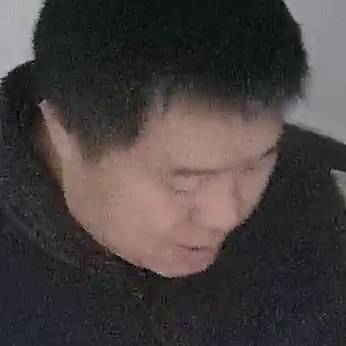cb: (38, 47, 290, 299)
